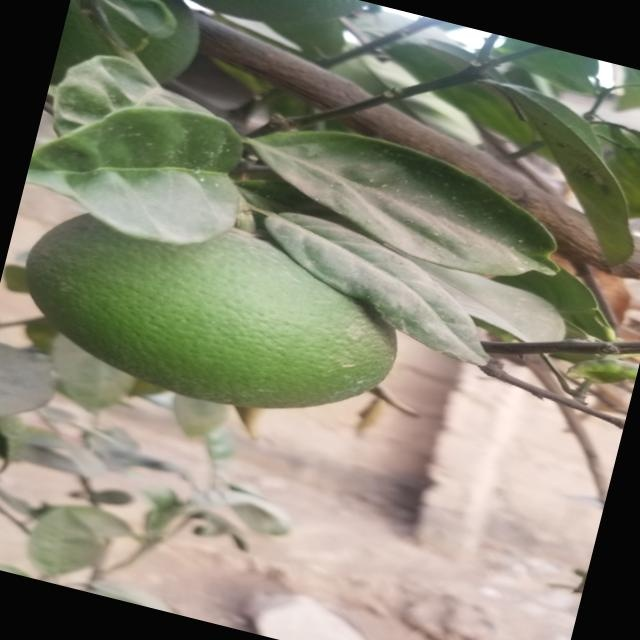agrume: (14, 193, 403, 432)
